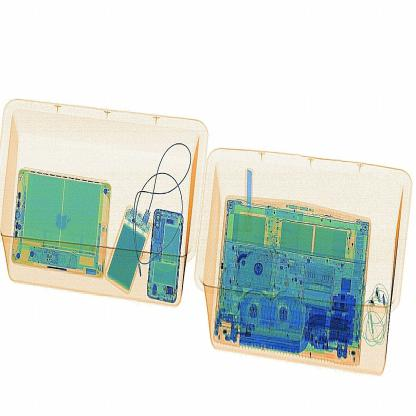pliers: (240, 160, 258, 235)
